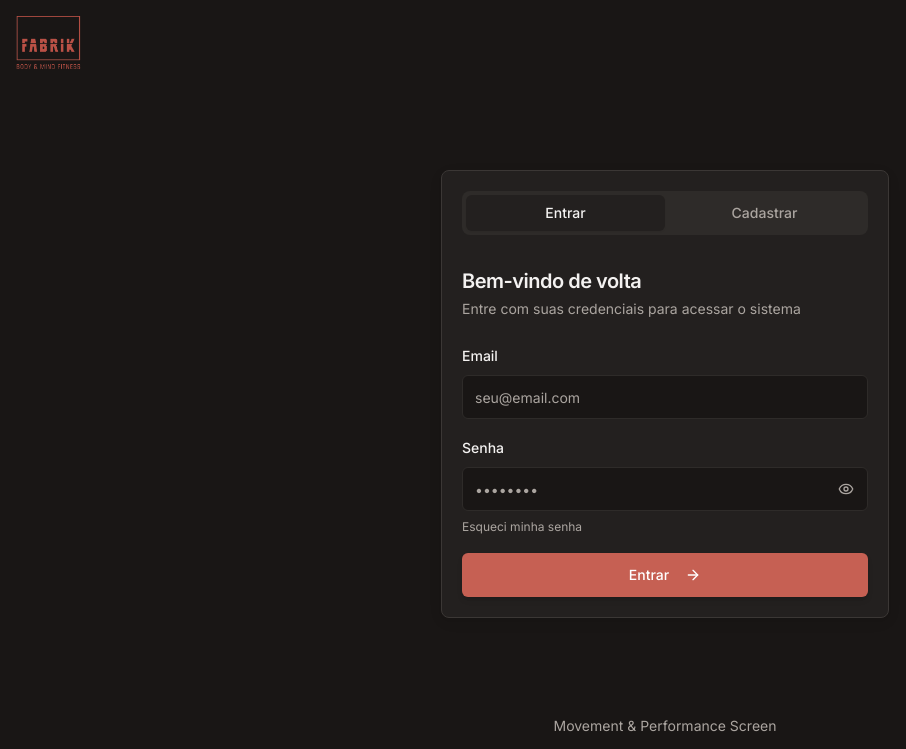
Esqueci minha senha (Auth) › volta para a entrada
Click the button "Esqueci minha senha" at (522, 527), box [462,519,582,535]
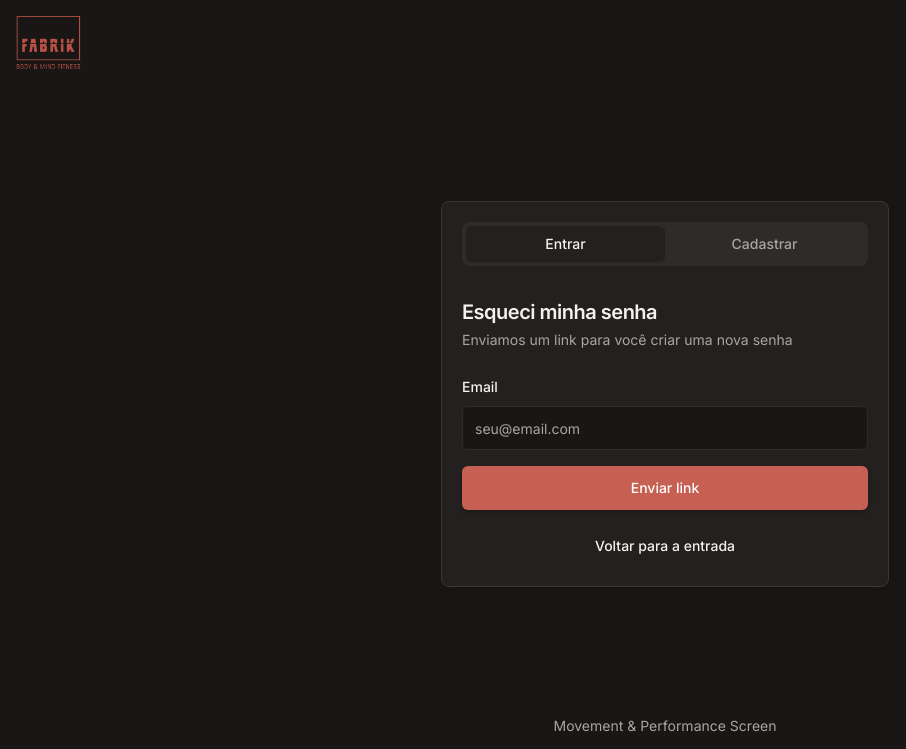
Click the button "Voltar para a entrada" at (665, 546), box [462,526,868,566]
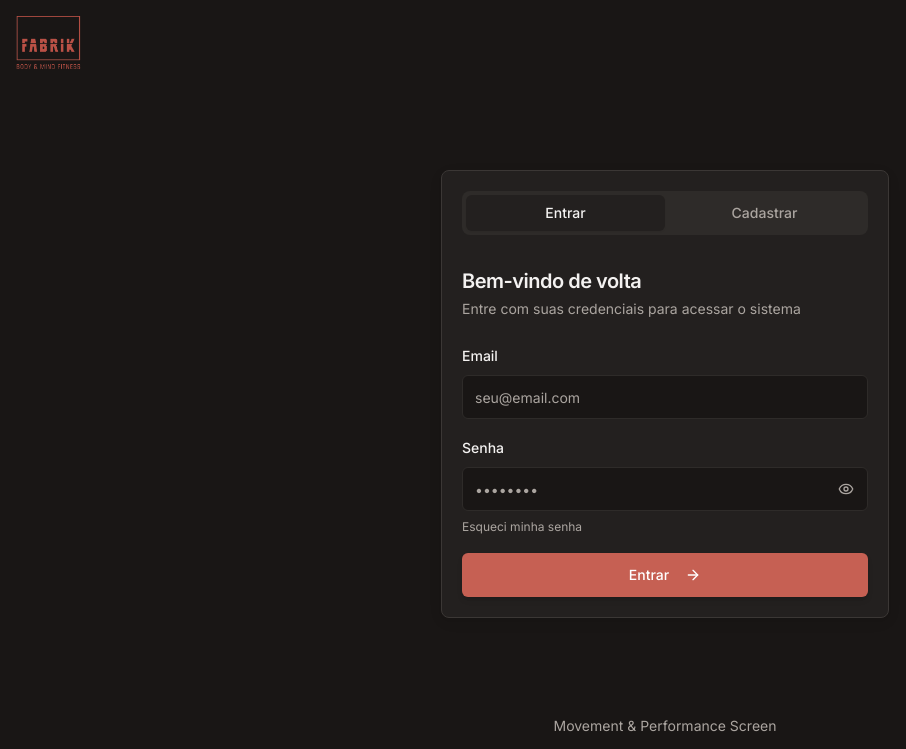
Check: the heading "Bem-vindo de volta" is shown, box [462,269,641,293]
